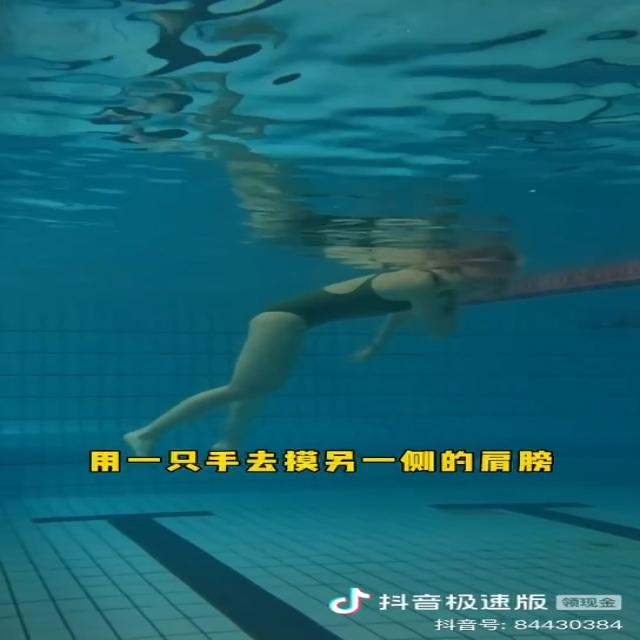Drowning: (124, 255, 516, 466)
